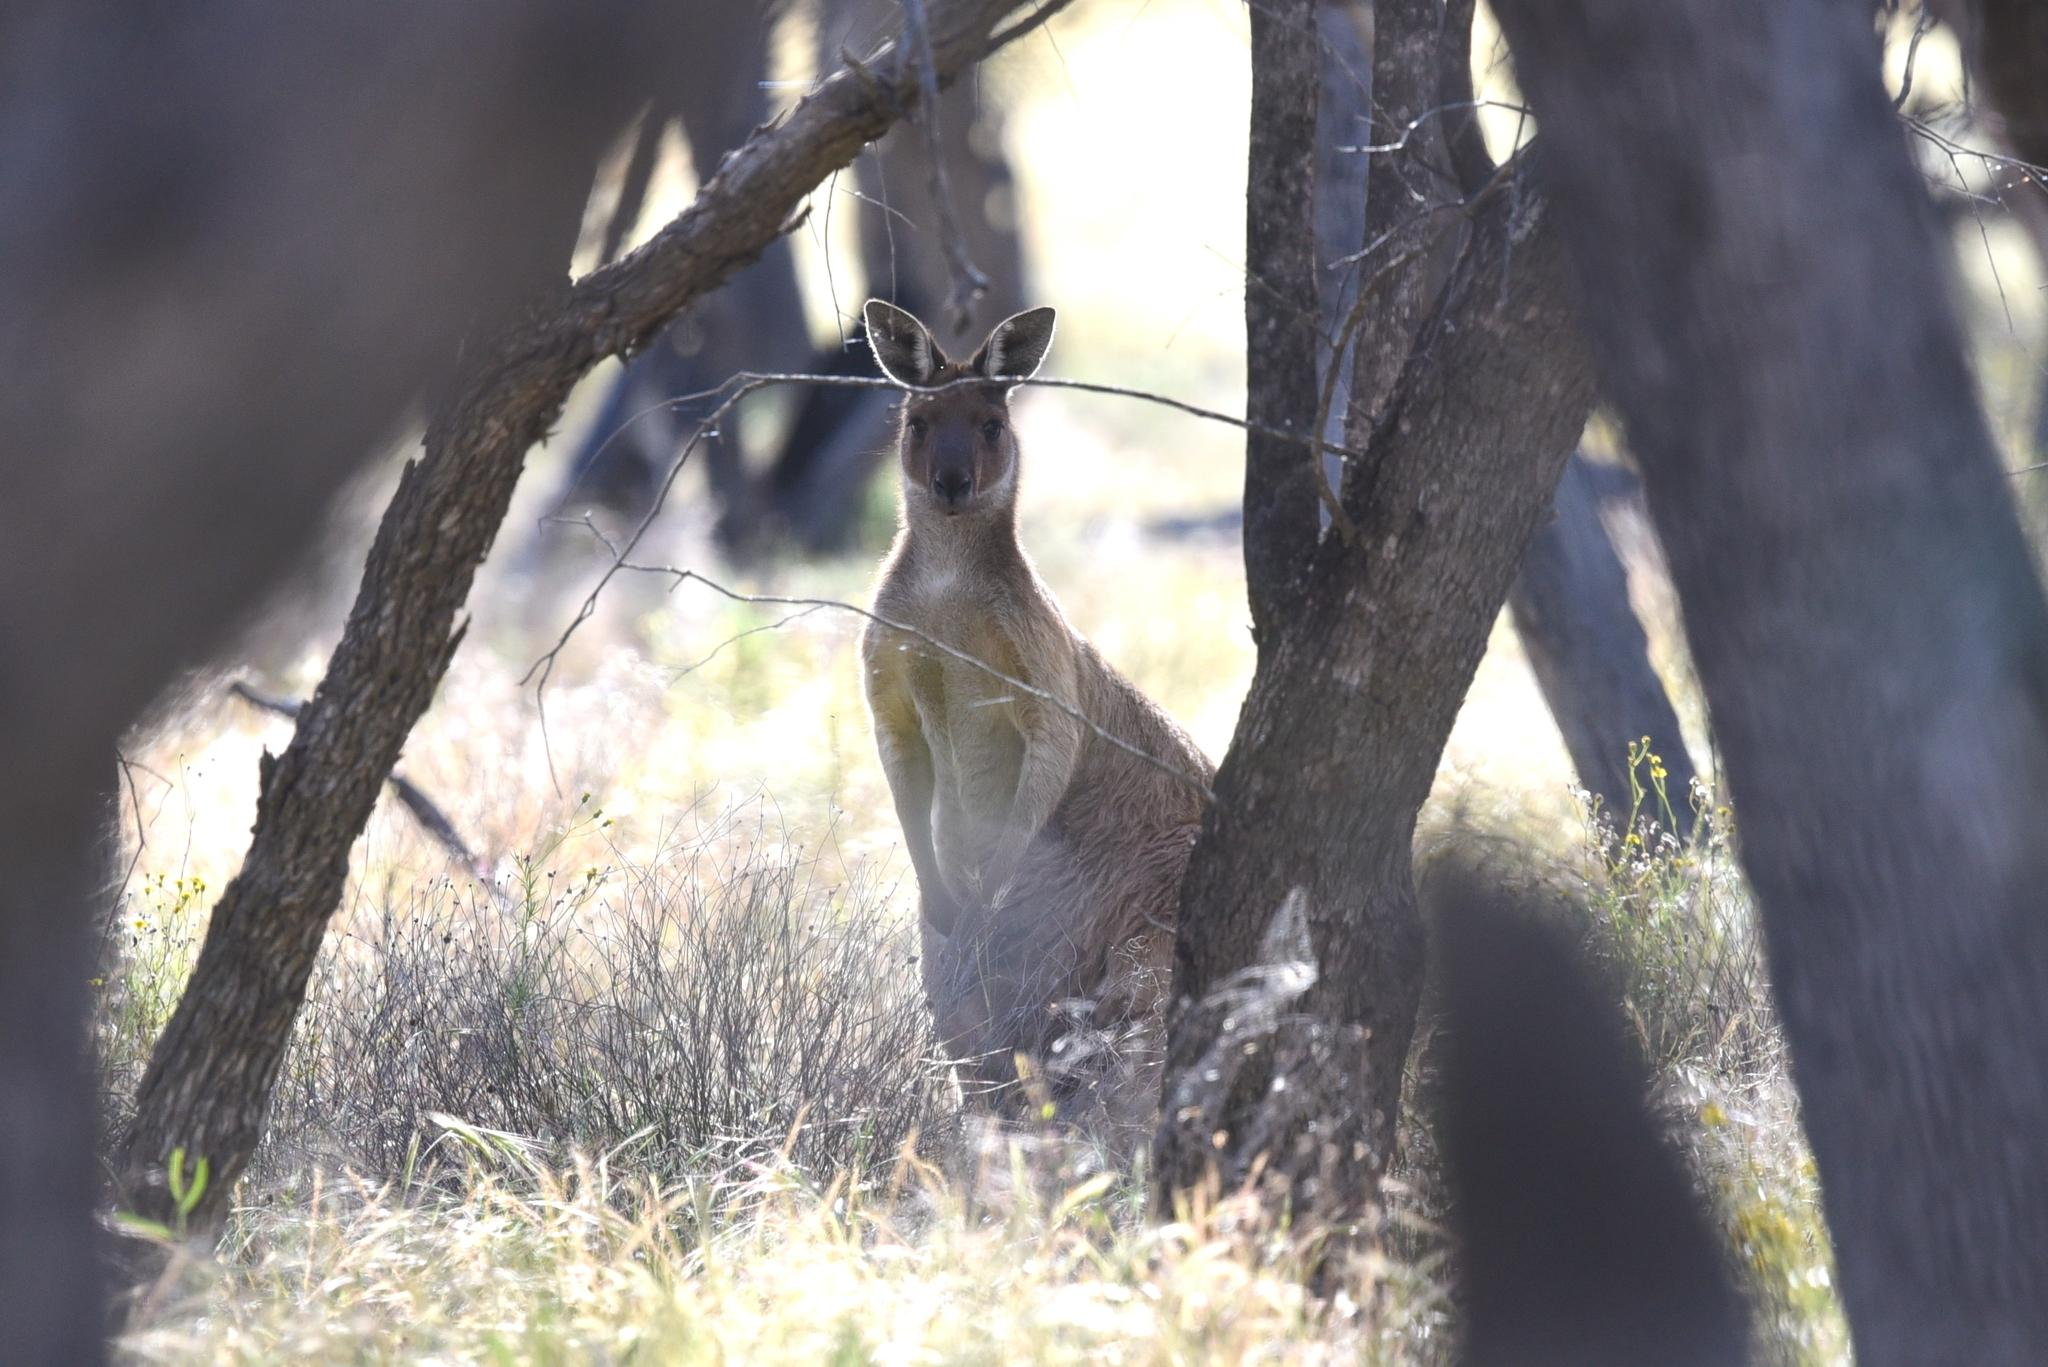Western grey kangaroo: (857, 298, 1217, 1202)
